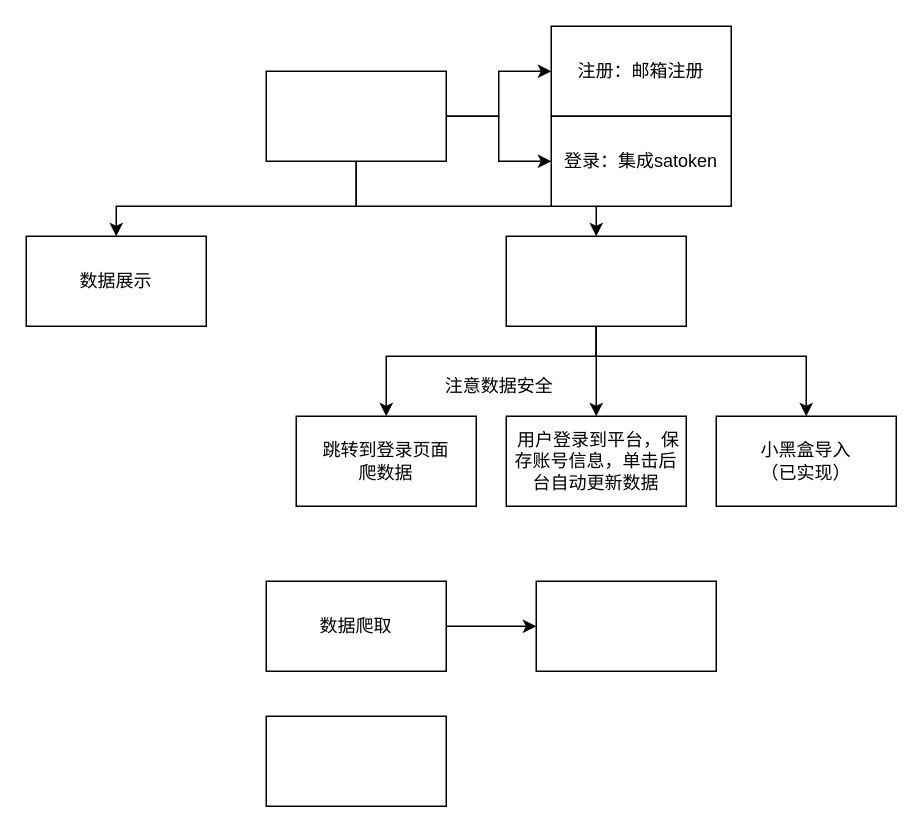
This 923x833 diagram has some shape labels left out. Here are the shapes that lost their labels. From the top down, the box of each, then its label:
(265, 70, 446, 161): 登录
(505, 235, 686, 326): 数据获取
(535, 580, 716, 671): 复用数据插入功能
(265, 715, 446, 806): 数据处理可以 用消息队列 并设计开关
